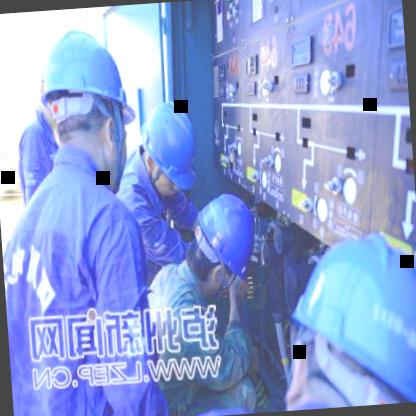helmet: (276, 219, 416, 410), (27, 14, 140, 188), (192, 186, 267, 296), (131, 94, 201, 209)
